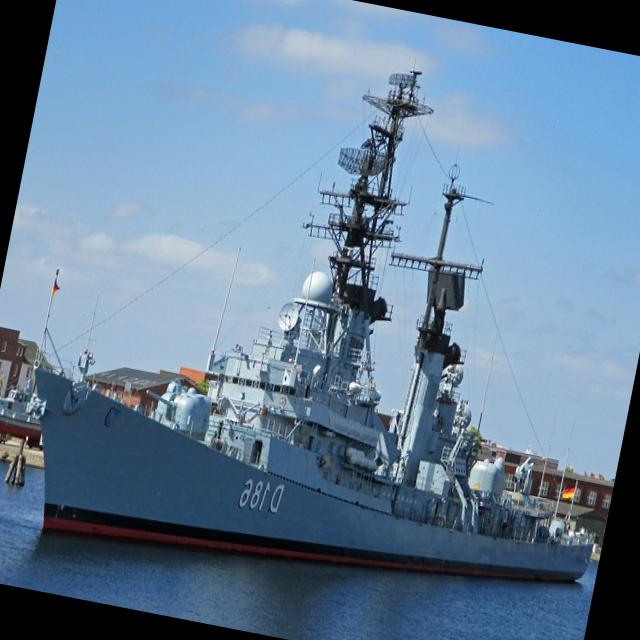Military: (33, 73, 595, 585)
